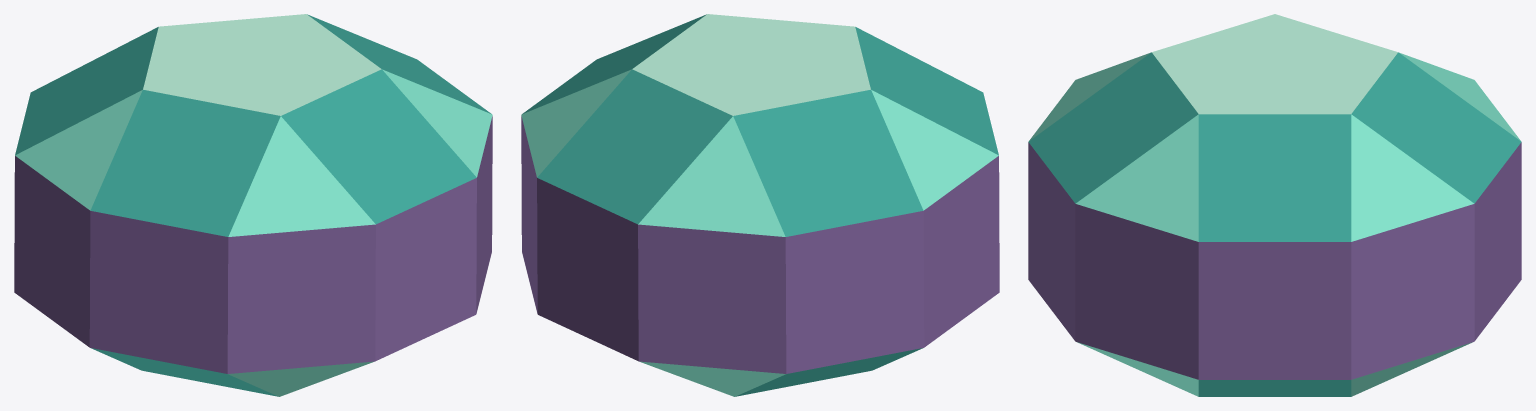
Rendered from J38.OrtobicupulaPentagonalElongada.gltf.
3 views of the same model, side by side, from view 1: azimuth 30°, elevation 25°; view 2: azimuth 150°, elevation 25°; view 3: azimuth 270°, elevation 25° (orthographic).
Visible parts, largest first — view 1: J38.OrtobicupulaPentagonalElongada; view 2: J38.OrtobicupulaPentagonalElongada; view 3: J38.OrtobicupulaPentagonalElongada.
Boxes of the visible parts, x1,y1,x2,y2 form: J38.OrtobicupulaPentagonalElongada: (14,14,492,396); J38.OrtobicupulaPentagonalElongada: (521,14,999,396); J38.OrtobicupulaPentagonalElongada: (1028,14,1521,396).
Size of the model in its own units: 18.2 by 12.16 by 19.11.
